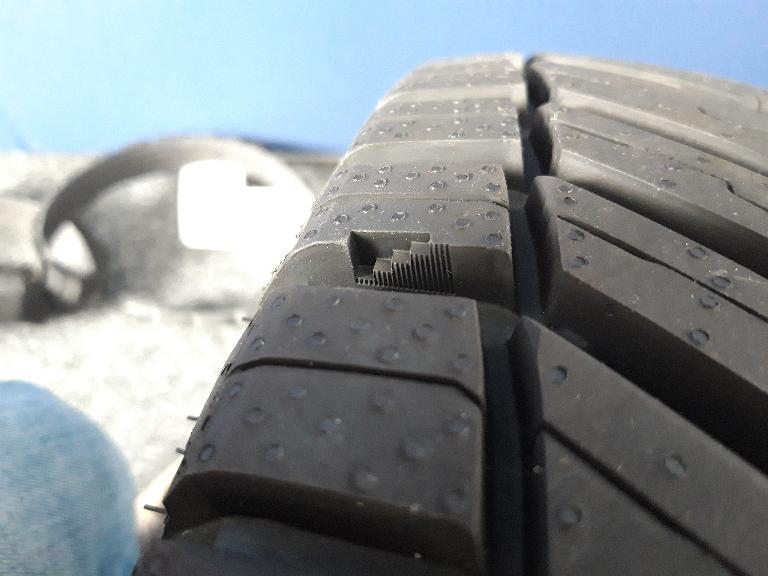temoin:100: (342, 227, 458, 300)
